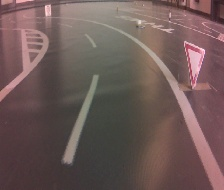give way sign: (182, 40, 206, 91)
